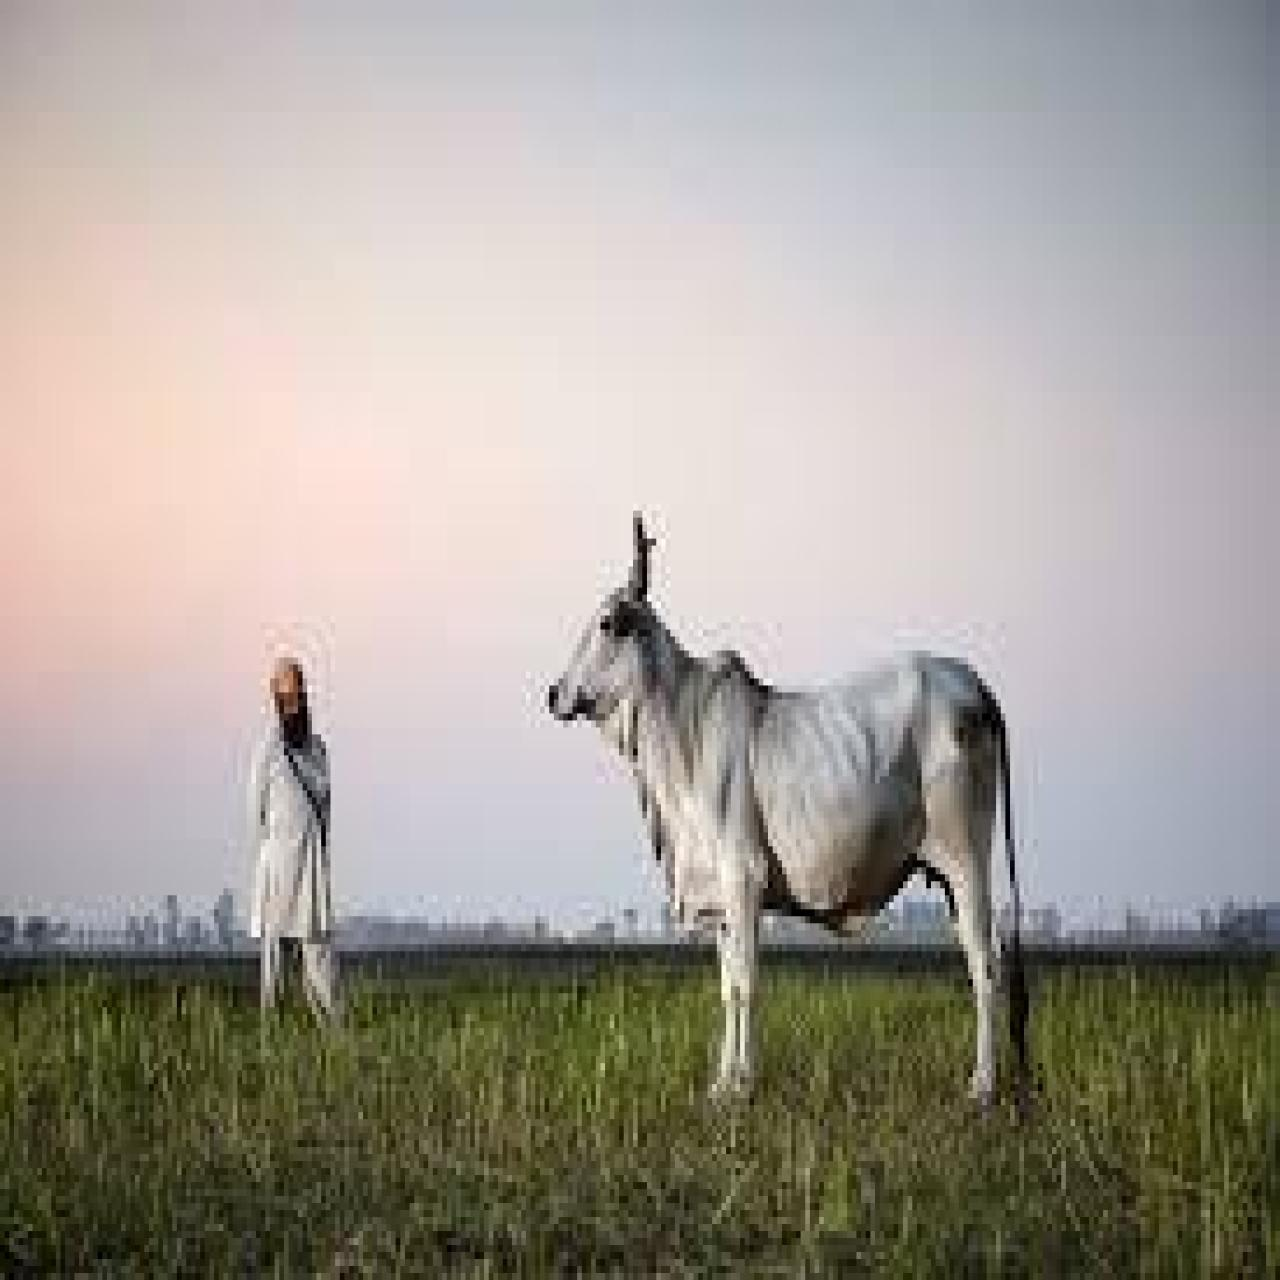cow: (545, 508, 1039, 1102)
